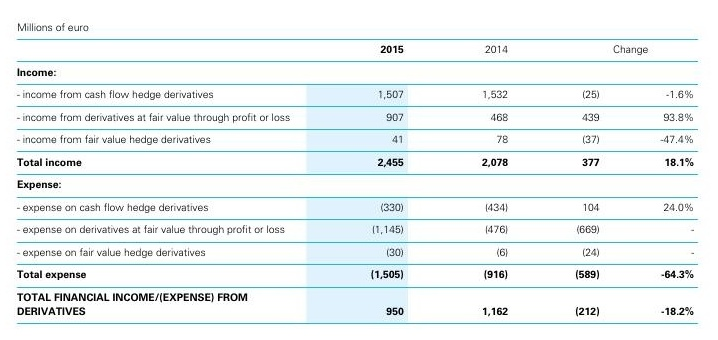table: (0, 0, 718, 340)
